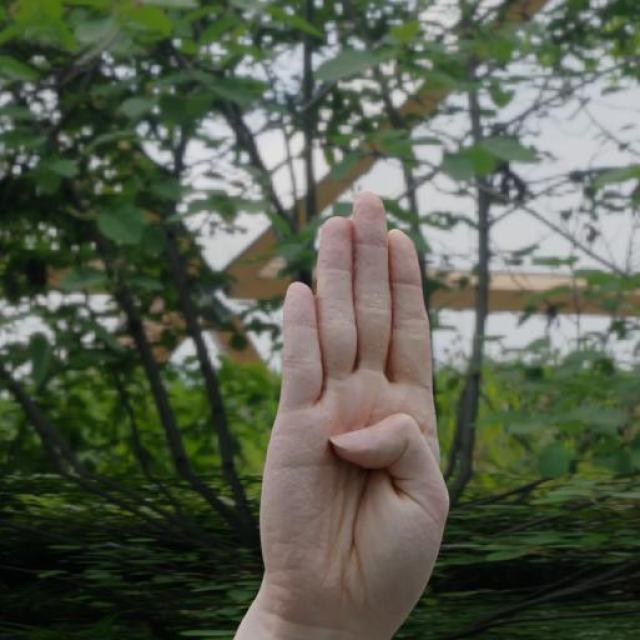B: (259, 185, 456, 640)
